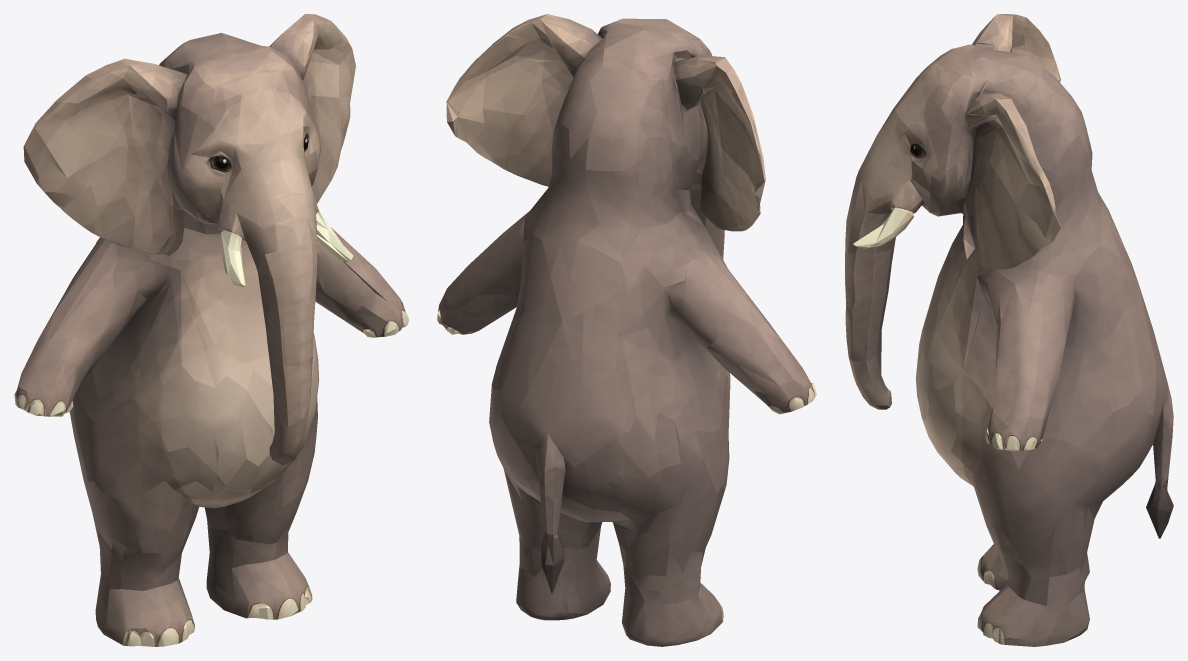
Rendered from elephant-apose.glb.
The picture shows the model from 3 angles, left to right: view 1: azimuth 30°, elevation 25°; view 2: azimuth 150°, elevation 25°; view 3: azimuth 270°, elevation 25°; orthographic projection. The views are drawn at different scales.
Parts seen in each view (by area): view 1: output_unwrapped; view 2: output_unwrapped; view 3: output_unwrapped.
Boxes of the visible parts, box(x1,y1,x2,y2) form: output_unwrapped: box(14, 14, 408, 646); output_unwrapped: box(437, 14, 816, 646); output_unwrapped: box(845, 14, 1173, 646).
Size of the model in its own units: 1.31 by 1.9 by 1.03.
Materials: 1 (1 with a texture image).
